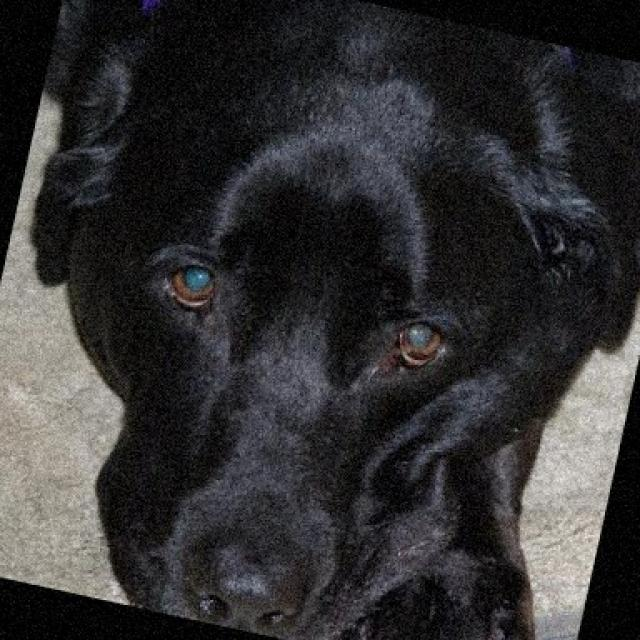sad: (61, 71, 547, 627)
